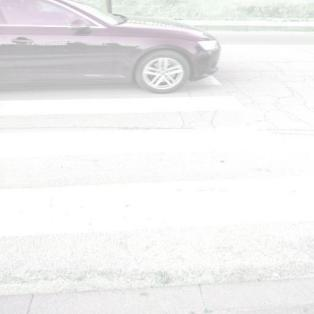Paso de Cebra: (1, 93, 291, 163)
